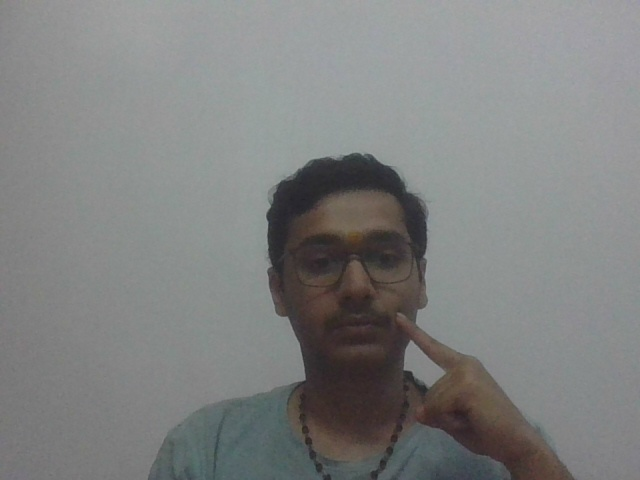I: (395, 309, 540, 455)
